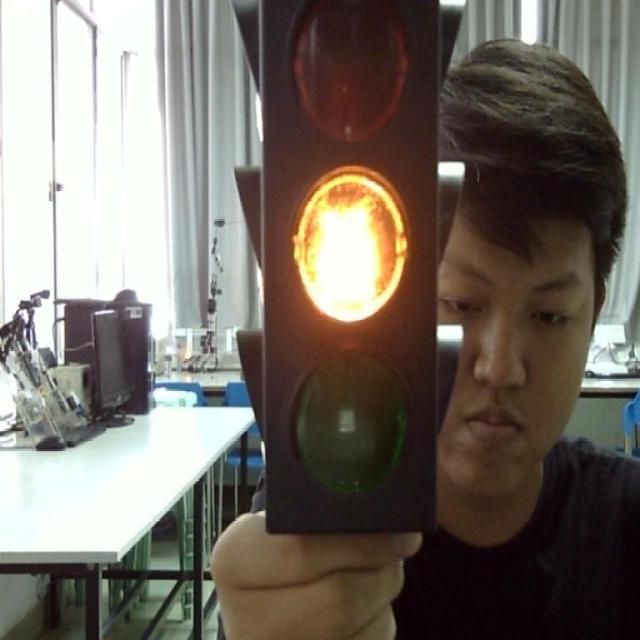yellow_light: (259, 0, 437, 530)
